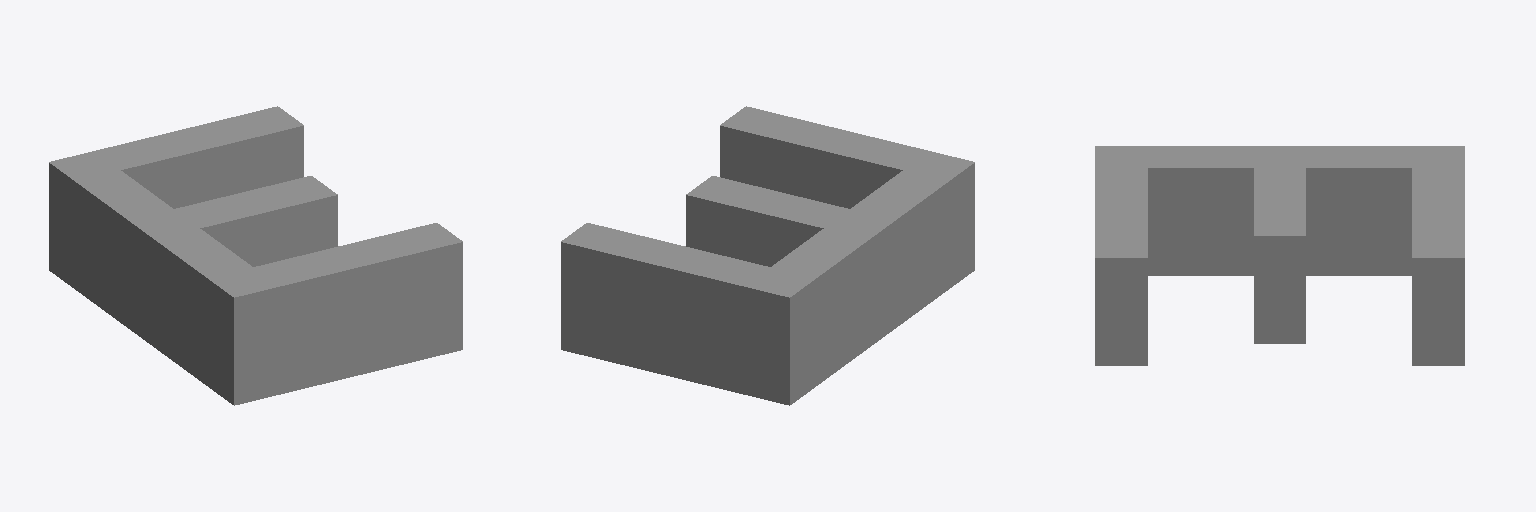
3 views of the same model, side by side, from view 1: azimuth 30°, elevation 25°; view 2: azimuth 150°, elevation 25°; view 3: azimuth 270°, elevation 25° (orthographic).
Parts seen in each view (by area): view 1: E_CUABC.005; view 2: E_CUABC.005; view 3: E_CUABC.005.
Part boxes in pixels (left/top/right/bottom): E_CUABC.005: left=49, top=106, right=462, bottom=405; E_CUABC.005: left=561, top=106, right=974, bottom=405; E_CUABC.005: left=1095, top=146, right=1464, bottom=365.
Size of the model in its own units: 0.5556 by 0.25 by 0.7778.